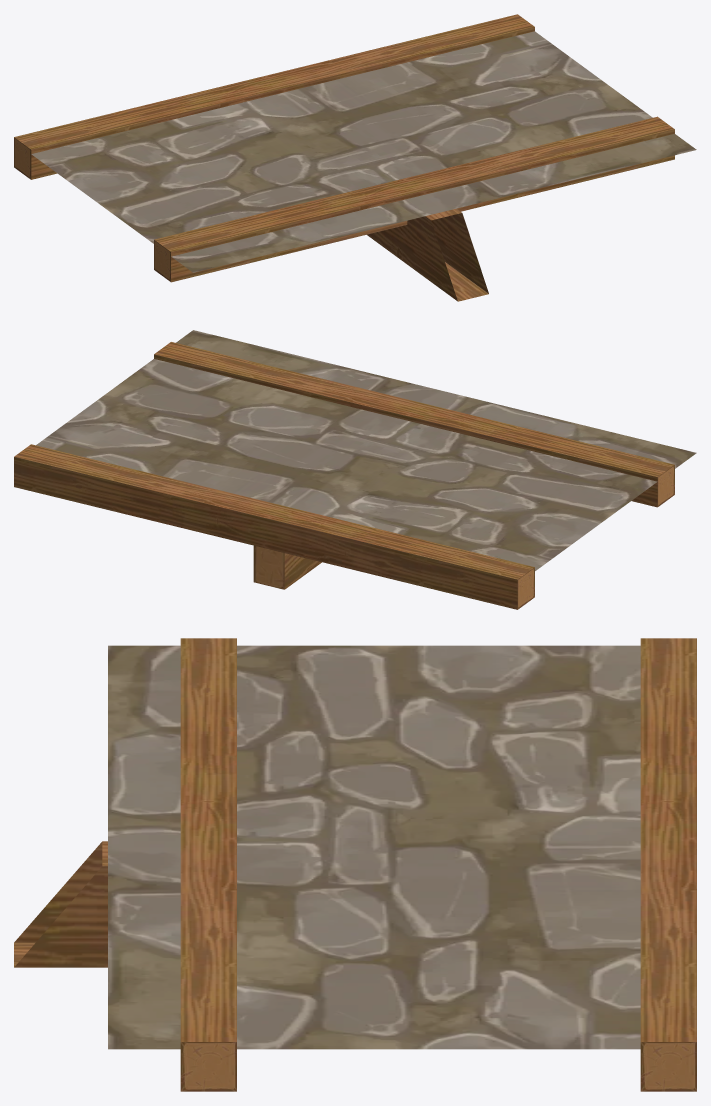
The model's file is overhang_roofincline_unevenbricks.glb.
The picture shows the model from 3 angles, top to bottom: view 1: azimuth 30°, elevation 25°; view 2: azimuth 150°, elevation 25°; view 3: azimuth 270°, elevation 25°; orthographic projection. The views are drawn at different scales.
Bounding box in the file's own units: 2 × 0.2659 × 1.43.
Materials: 2 (2 with a texture image).
